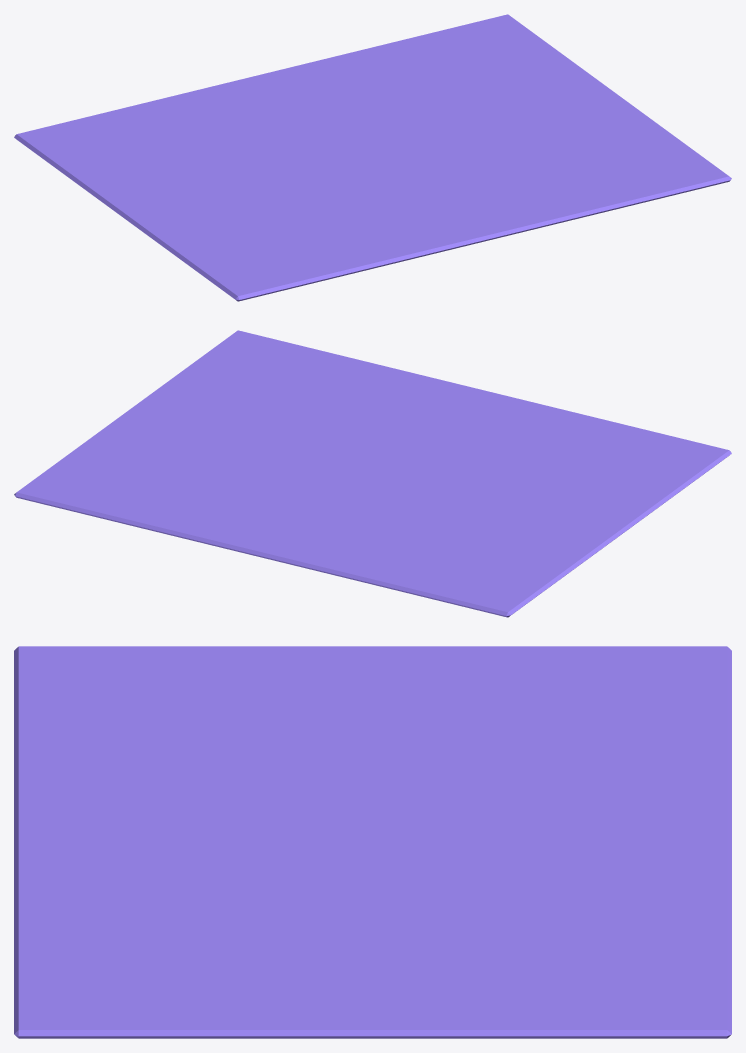
3 renders of one model, top to bottom at view 1: azimuth 30°, elevation 25°; view 2: azimuth 150°, elevation 25°; view 3: azimuth 270°, elevation 25°, orthographic. The views are drawn at different scales.
Parts seen in each view (by area): view 1: Rug; view 2: Rug; view 3: Rug.
Boxes of the visible parts, bbox=[...] form: Rug: bbox=[14, 14, 731, 301]; Rug: bbox=[14, 330, 731, 617]; Rug: bbox=[14, 646, 731, 1038].
Bounding box in the file's own units: 2.3 × 0.024 × 1.8.
Materials: 1 (1 with a texture image).
